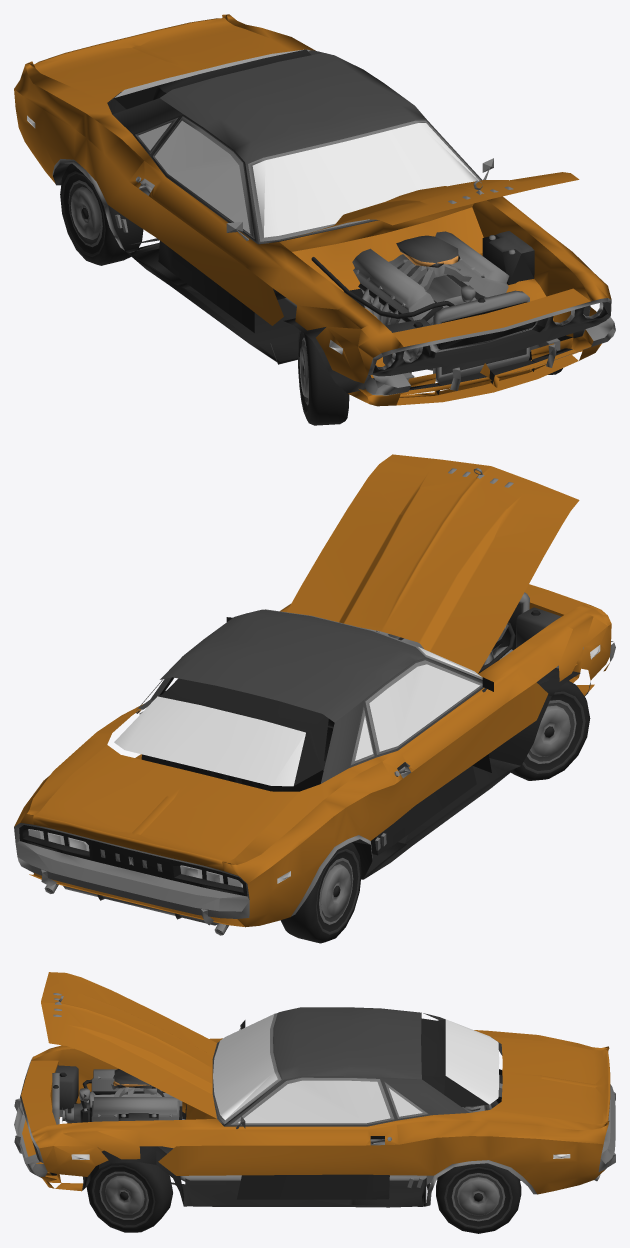
The model's file is car-muscle-coupe-hoodup.glb.
The picture shows the model from 3 angles, top to bottom: view 1: azimuth 30°, elevation 25°; view 2: azimuth 150°, elevation 25°; view 3: azimuth 270°, elevation 25°; orthographic projection. The views are drawn at different scales.
Visible parts, largest first — view 1: Body, Chassis, Engine_Details; view 2: Body, Chassis, Engine_Details; view 3: Body, Chassis, Engine_Details.
Part boxes in pixels (box(x1,y1,x2,y2)): Body: box(14, 14, 615, 425); Chassis: box(68, 178, 560, 405); Engine_Details: box(61, 171, 534, 414); Body: box(14, 454, 615, 943); Chassis: box(63, 592, 576, 925); Engine_Details: box(316, 607, 585, 934); Body: box(14, 972, 615, 1233); Chassis: box(52, 1069, 520, 1221); Engine_Details: box(55, 1065, 512, 1228).
Size of the model in its own units: 2.01 by 1.71 by 4.86.
